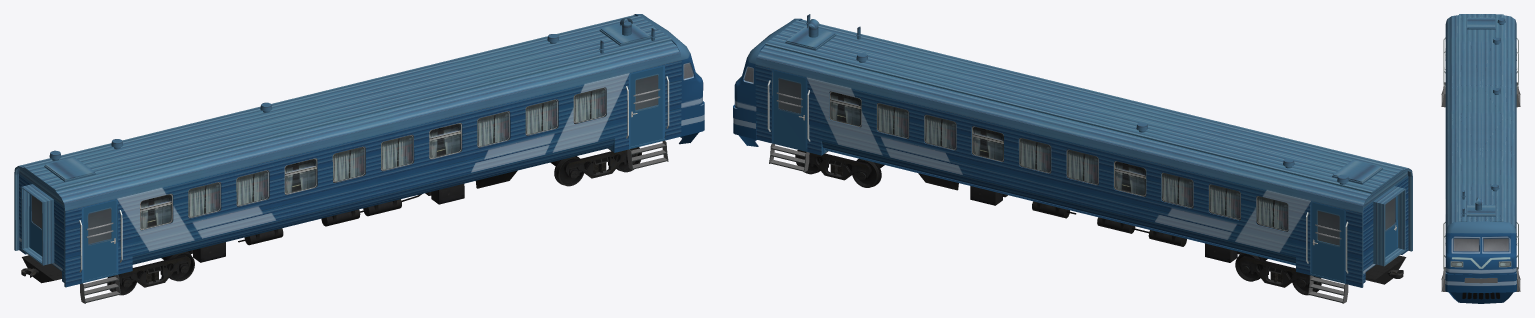
File: Train03Intervip_1Passenger1Cabin.FBX
3 views of the same model, side by side, from view 1: azimuth 30°, elevation 25°; view 2: azimuth 150°, elevation 25°; view 3: azimuth 270°, elevation 25° (orthographic). The views are drawn at different scales.
Visible parts, largest first — view 1: Train03Intervip_1Passenger, Train03Intervip_1WheelsPas, Train03Intervip_1Cabin, Train03Intervip_Stairs, Train03Intervip_1Wheel03Pas; view 2: Train03Intervip_1Passenger, Train03Intervip_1WheelsPas, Train03Intervip_1Cabin, Train03Intervip_Stairs, Train03Intervip_1Wheel03Pas; view 3: Train03Intervip_1Passenger, Train03Intervip_1Cabin, Train03Intervip_Stairs.
Boxes of the visible parts, left/top/right/bottom form: Train03Intervip_1Passenger: left=14, top=15, right=681, bottom=287; Train03Intervip_1WheelsPas: left=21, top=148, right=637, bottom=287; Train03Intervip_1Cabin: left=634, top=14, right=704, bottom=144; Train03Intervip_Stairs: left=80, top=140, right=668, bottom=303; Train03Intervip_1Wheel03Pas: left=550, top=156, right=584, bottom=186; Train03Intervip_1Passenger: left=755, top=14, right=1412, bottom=287; Train03Intervip_1WheelsPas: left=799, top=150, right=1406, bottom=287; Train03Intervip_1Cabin: left=733, top=18, right=802, bottom=146; Train03Intervip_Stairs: left=769, top=143, right=1348, bottom=303; Train03Intervip_1Wheel03Pas: left=851, top=158, right=884, bottom=187; Train03Intervip_1Passenger: left=1443, top=14, right=1518, bottom=271; Train03Intervip_1Cabin: left=1445, top=221, right=1516, bottom=303; Train03Intervip_Stairs: left=1441, top=82, right=1520, bottom=291.
Bounding box in the file's own units: 1373 × 277 × 206.
